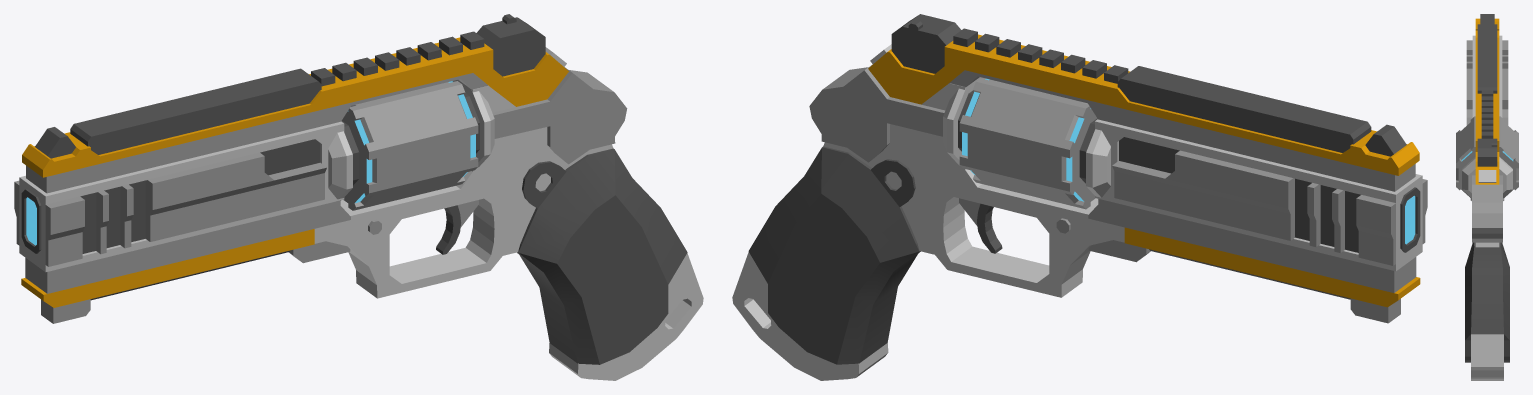
The model's file is SM_REV01.fbx.
3 views of the same model, side by side, from view 1: azimuth 30°, elevation 25°; view 2: azimuth 150°, elevation 25°; view 3: azimuth 270°, elevation 25° (orthographic). The views are drawn at different scales.
Parts seen in each view (by area): view 1: SM_REV01, SM_REV01_Cylinder, SM_REV01_Trigger; view 2: SM_REV01, SM_REV01_Cylinder, SM_REV01_Trigger; view 3: SM_REV01, SM_REV01_Cylinder.
Part boxes in pixels (x1,y1,x2,y2): SM_REV01: (14,14,703,380); SM_REV01_Cylinder: (341,81,479,210); SM_REV01_Trigger: (436,200,478,254); SM_REV01: (732,14,1427,380); SM_REV01_Cylinder: (958,78,1097,209); SM_REV01_Trigger: (959,198,1002,253); SM_REV01: (1462,14,1512,380); SM_REV01_Cylinder: (1456,116,1518,200).
Bounding box in the file's own units: 33.23 × 17.86 × 4.82.
